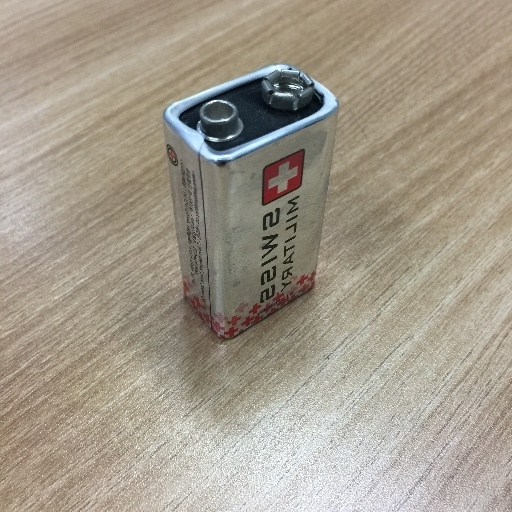Battery_3: (150, 54, 350, 350)
